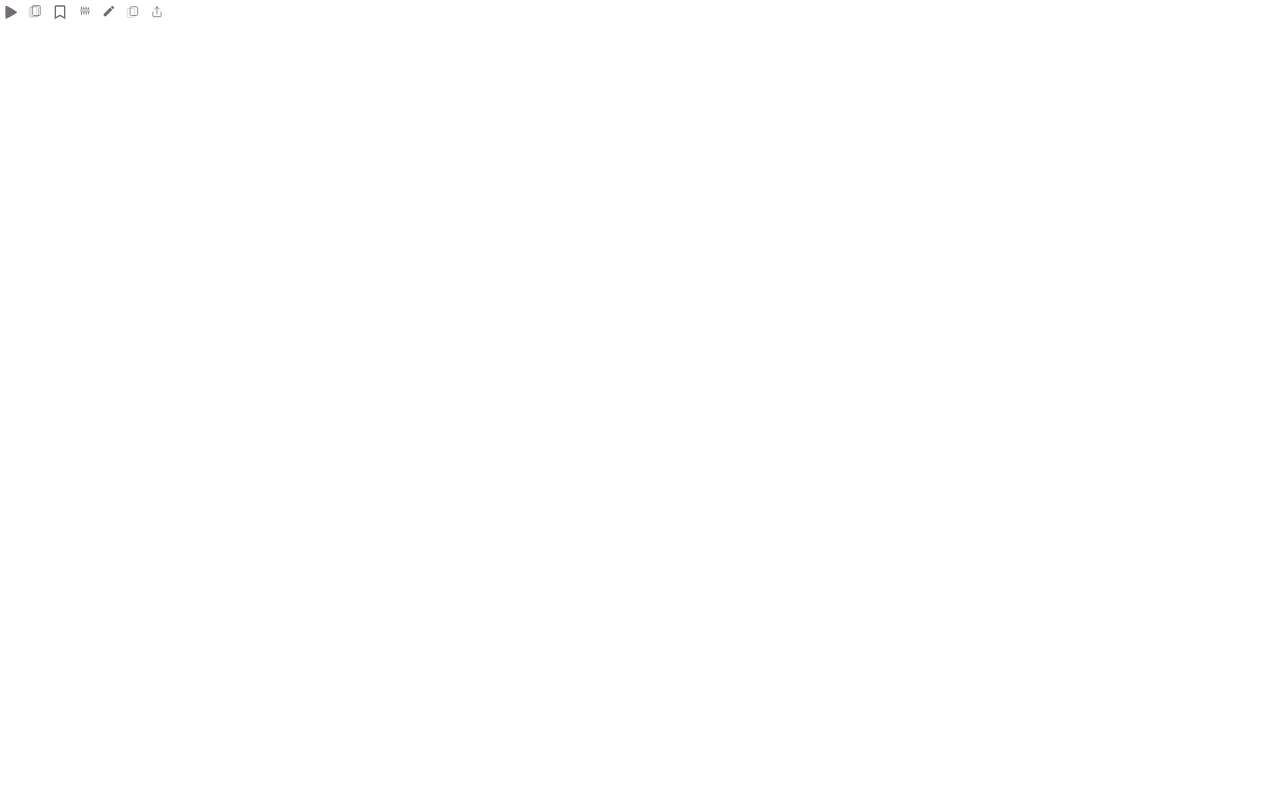
it: VerseActions › opens the reciter picker when play is pressed without a remembered reciter
Click the button named "play from 1:2 — choose a reciter" at [11, 12], box [0, 1, 22, 23]
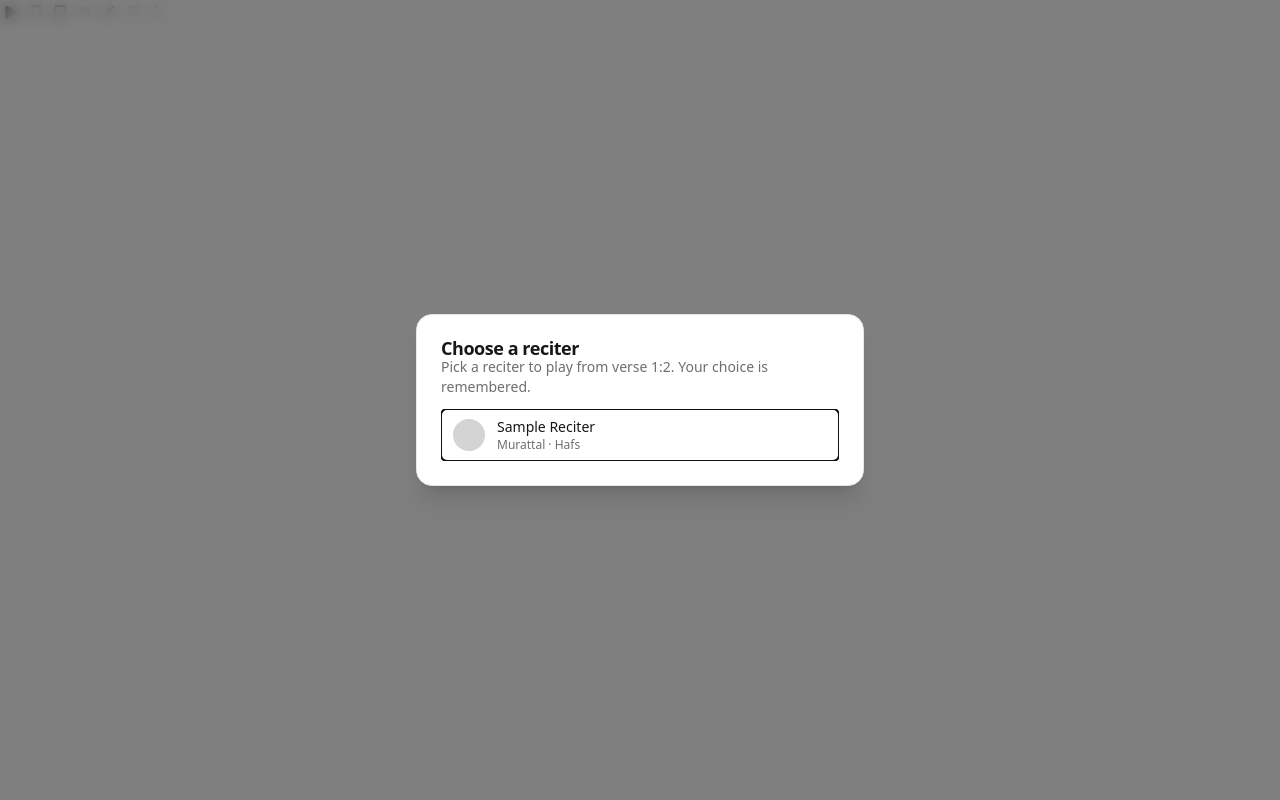
Now the dialog "Choose a reciter" is shown, box [416, 314, 864, 486]
